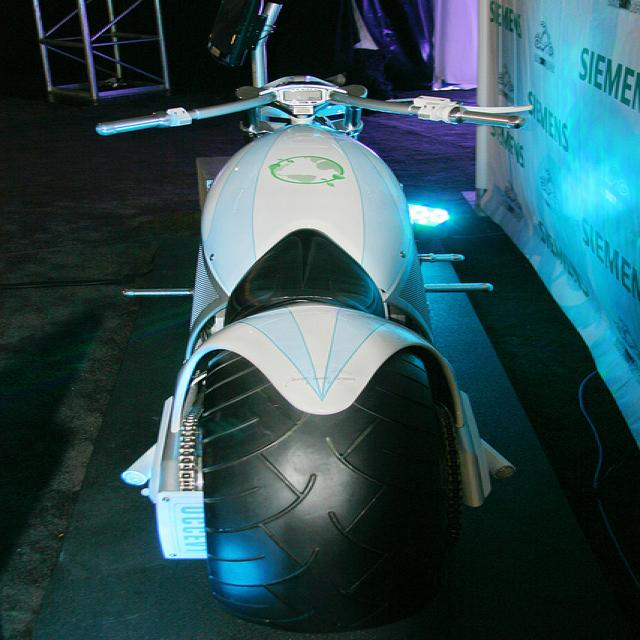motor: (84, 83, 543, 631)
